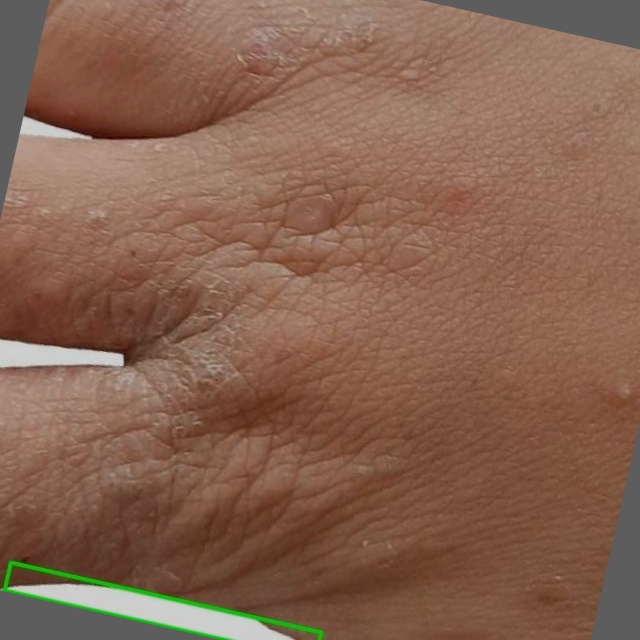Scabies: (5, 562, 322, 639)
